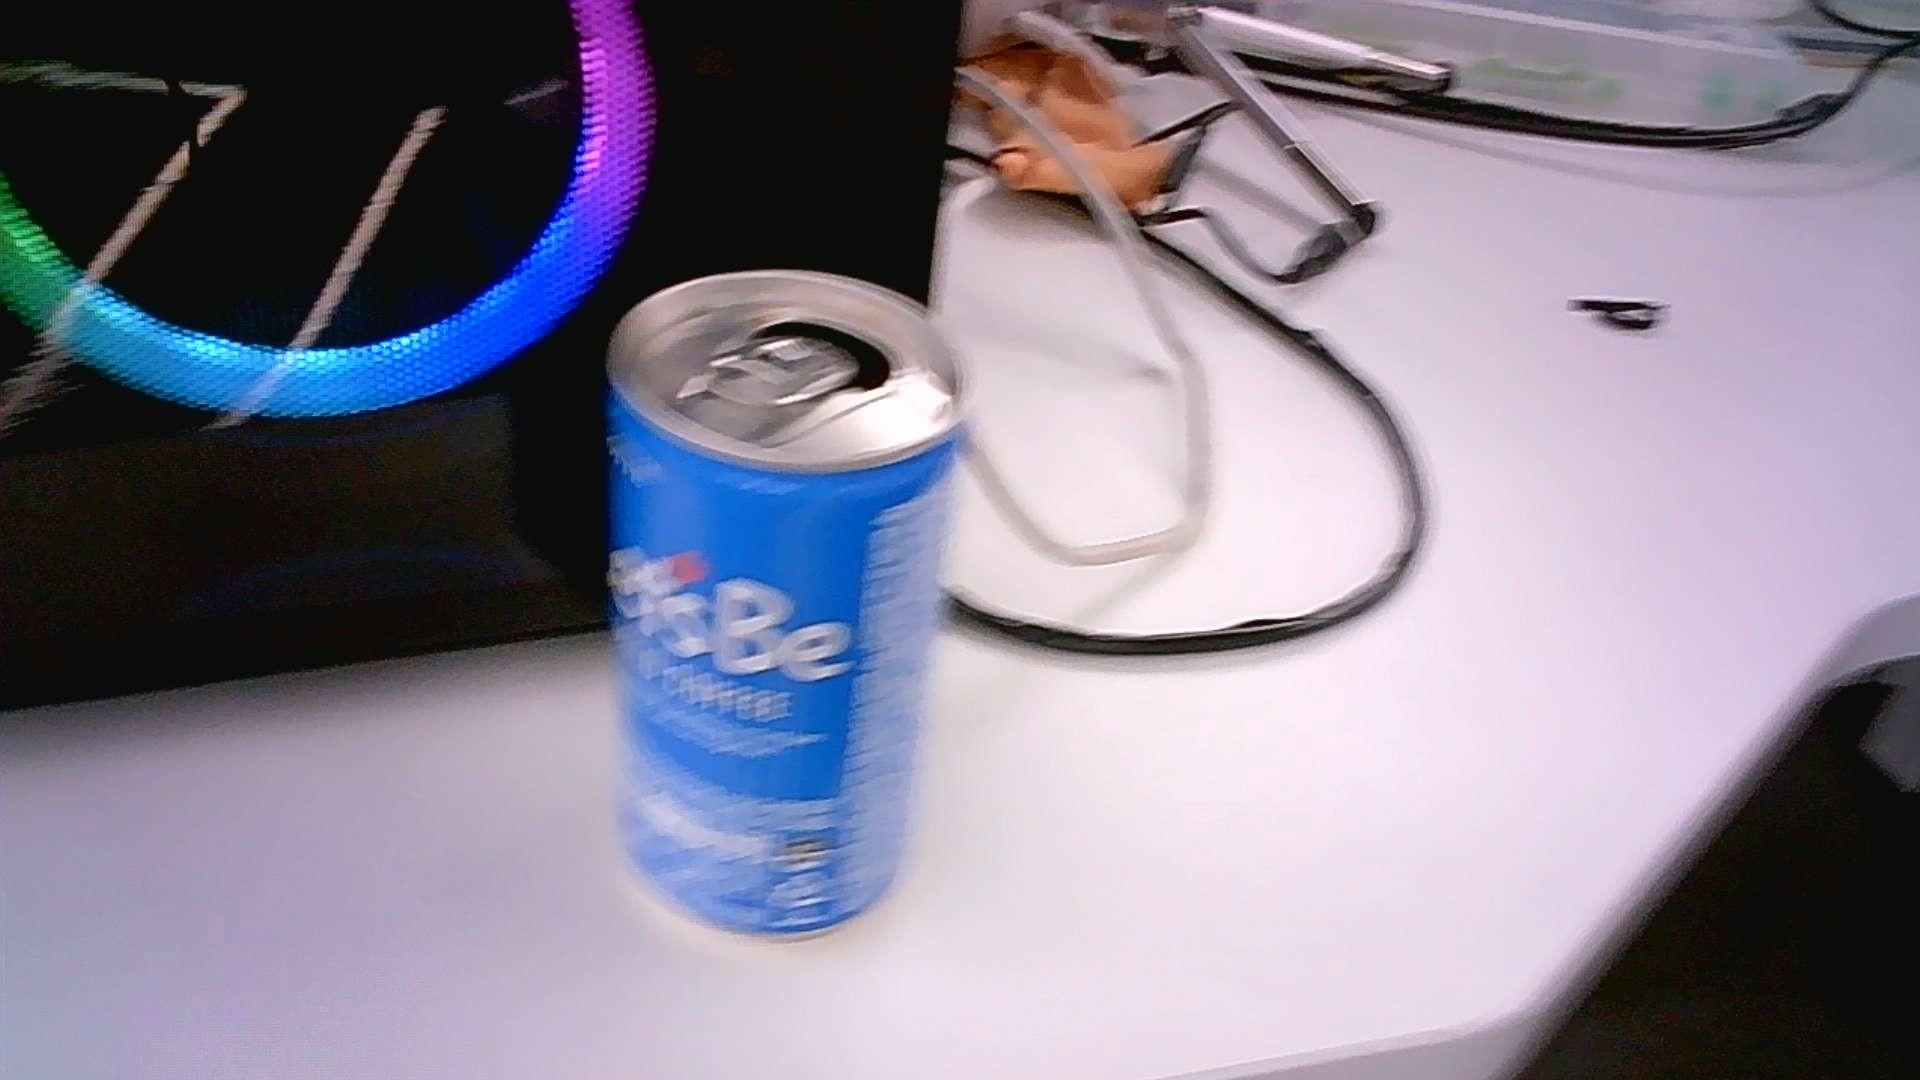letsbe: (604, 269, 968, 930)
